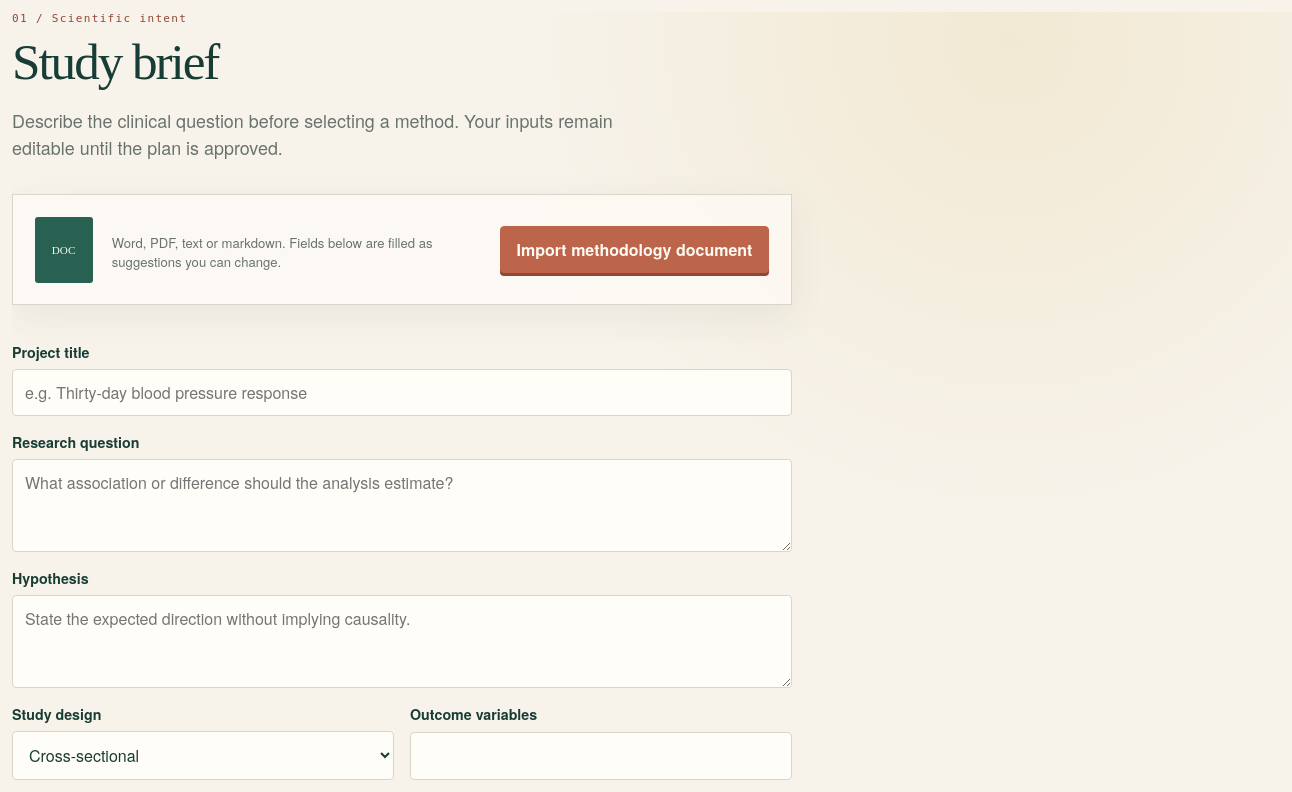
Test: tells the English-speaking user to re-select the file too
The width and height of the screenshot is (1292, 792).
Click the button "Import methodology document" at point(634, 250), box [500,226,769,273]
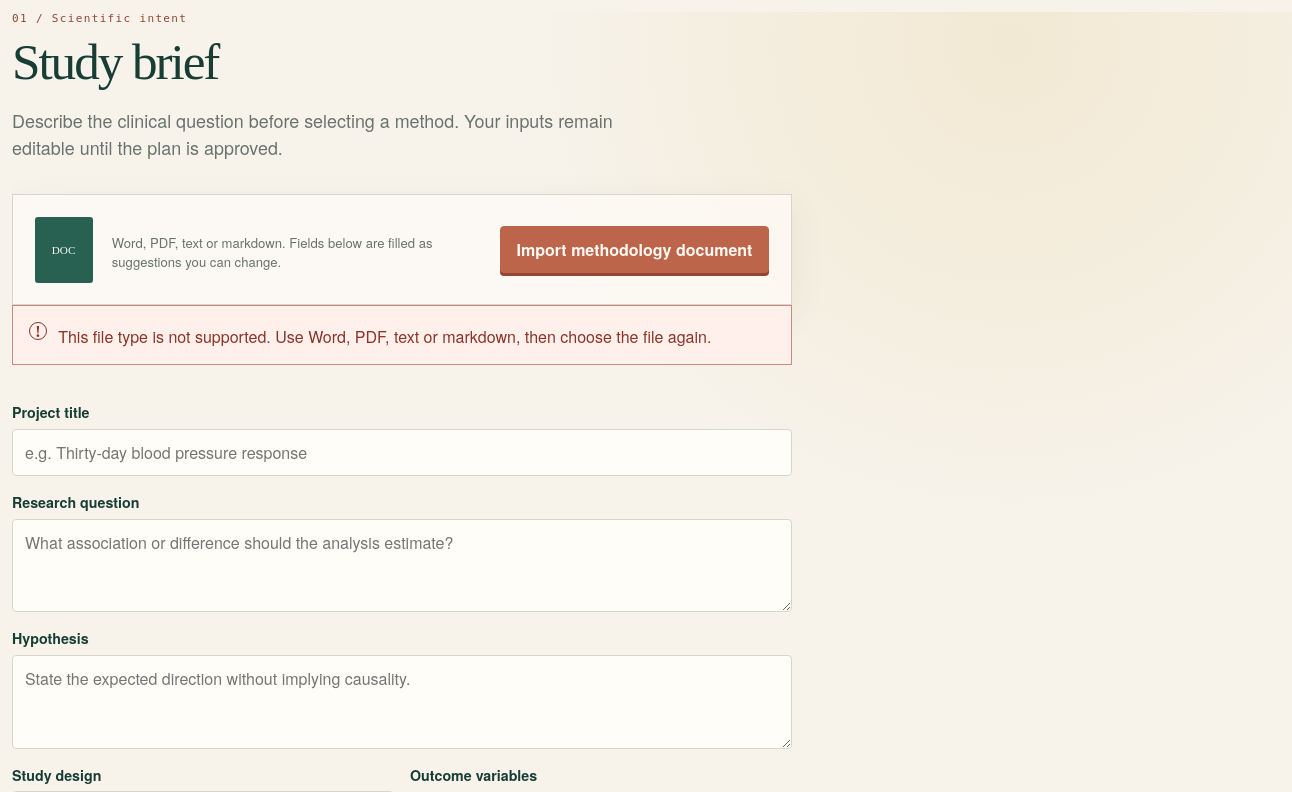
Expected: the message shows "not supported", [58,326,711,348]
Expected: the message shows "again", [58,326,711,348]
